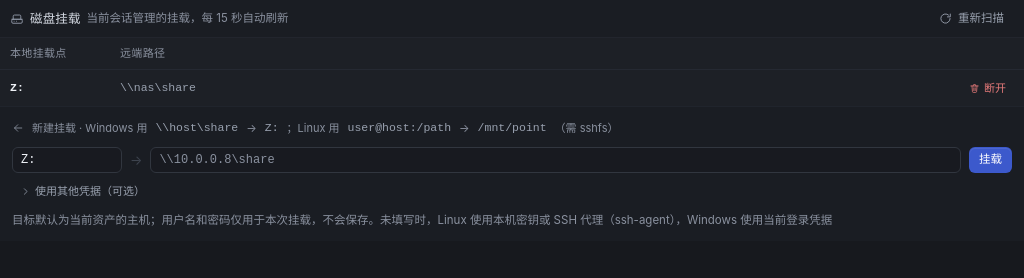
MountPanel optional credentials collapse › username and password are collapsed by default and expand after clicking Use other credentials (optional)
Click the button "使用其他凭据（可选）": (82, 192) [12,181,153,203]
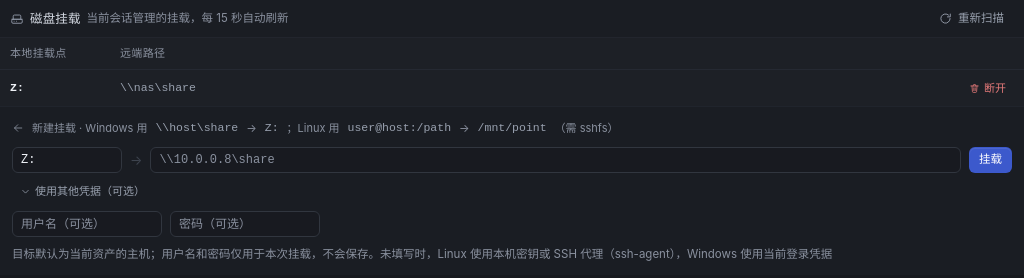
Check: the field named "挂载用户名（可选）" is shown, box [12,211,162,237]
Check: the password field named "挂载密码（可选）" is shown, box [170,211,320,237]
Check: the button "使用其他凭据（可选）" is expanded, box [12,181,153,203]
